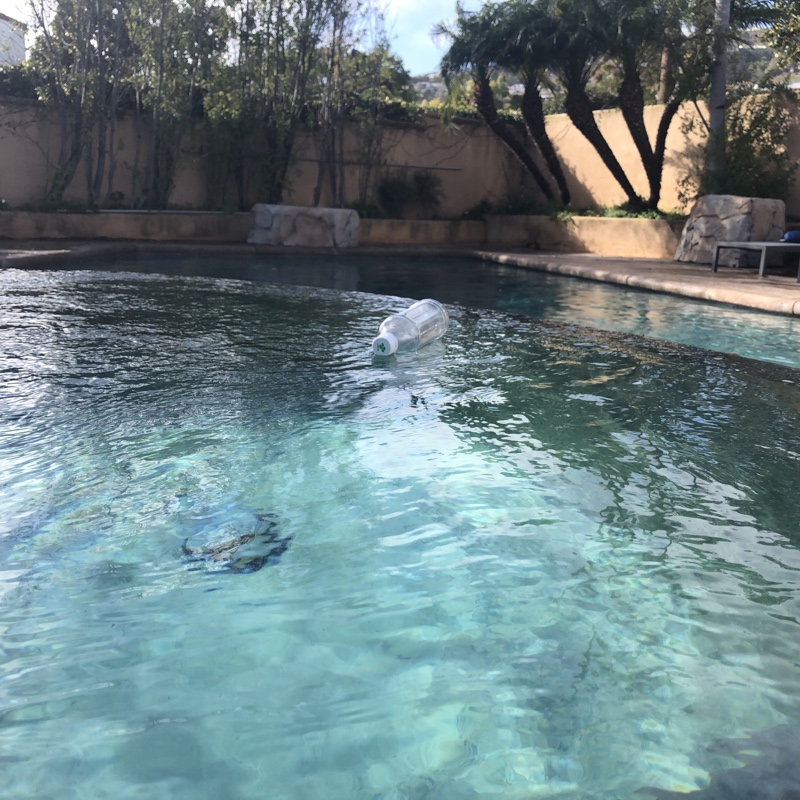Plastic Bottle: (367, 293, 451, 359)
